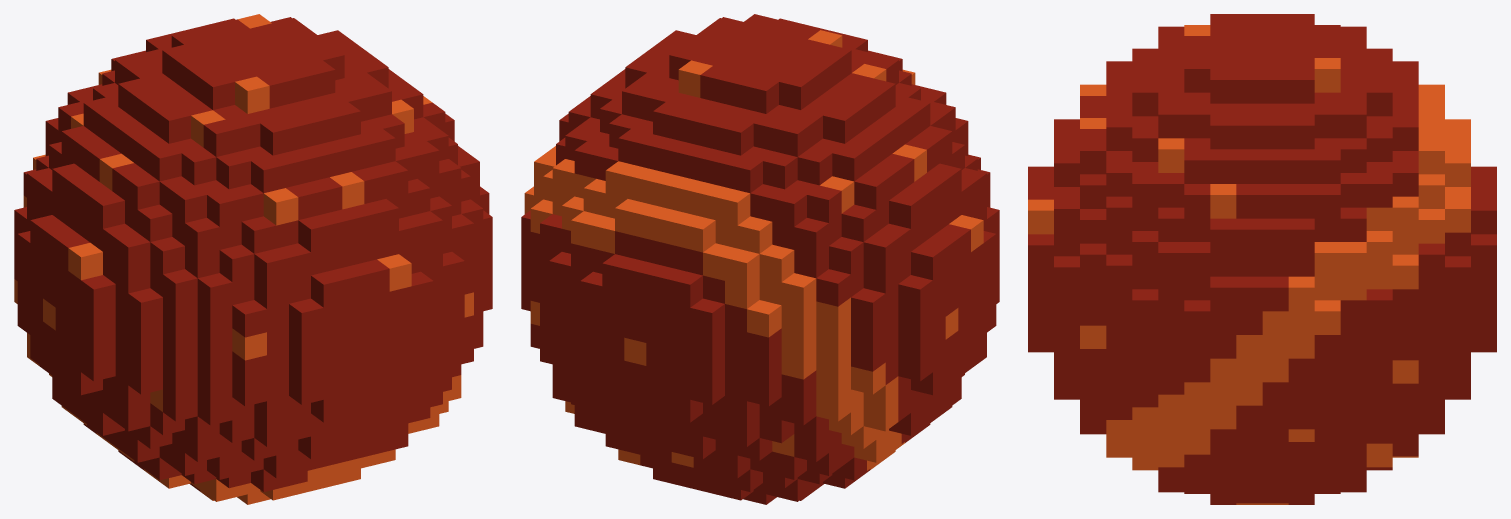
File: крассный шар для босса.obj
3 renders of one model, left to right at view 1: azimuth 30°, elevation 25°; view 2: azimuth 150°, elevation 25°; view 3: azimuth 270°, elevation 25°, orthographic. The views are drawn at different scales.
Size of the model in its own units: 1.8 by 1.8 by 1.8.
1 material, 1 textured.
